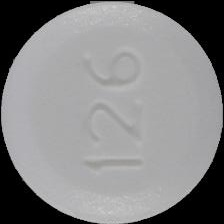42543-704: (0, 0, 224, 224)
